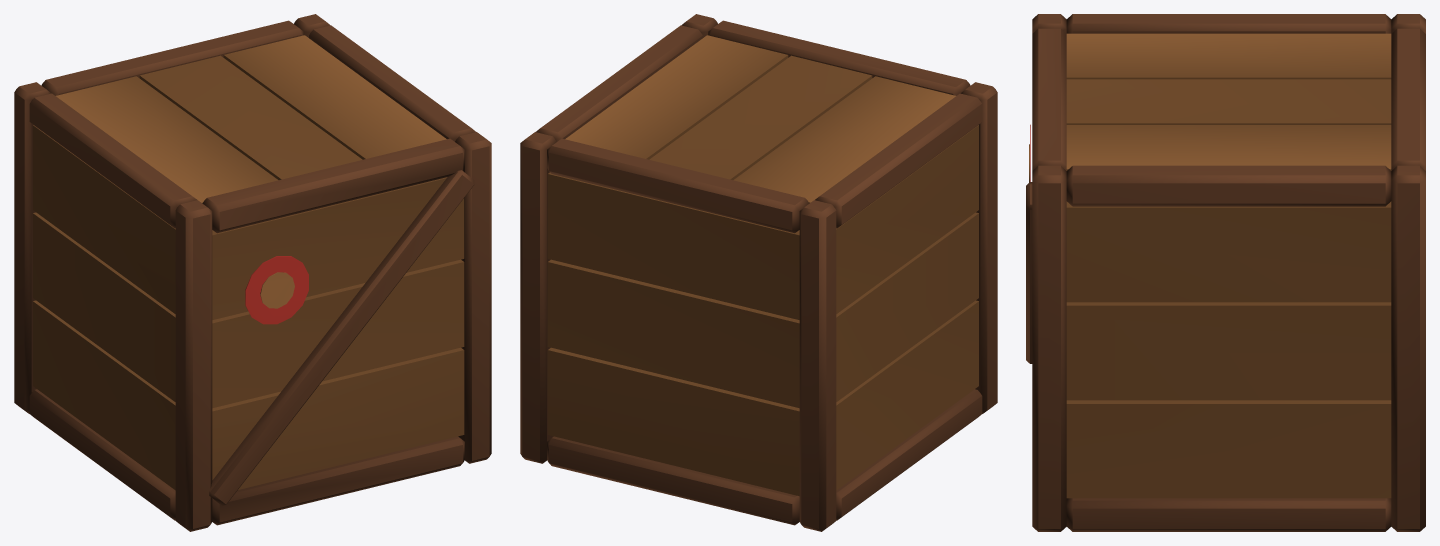
The model's file is crate.glb.
3 renders of one model, left to right at view 1: azimuth 30°, elevation 25°; view 2: azimuth 150°, elevation 25°; view 3: azimuth 270°, elevation 25°, orthographic. The views are drawn at different scales.
Parts seen in each view (by area): view 1: Crate Wood, Crate Dark wood, Crate Red paint; view 2: Crate Wood, Crate Dark wood; view 3: Crate Wood, Crate Dark wood.
Part boxes in pixels (x1=…): Crate Wood: x1=33, y1=35, x2=464, y2=490; Crate Dark wood: x1=14, y1=14, x2=491, y2=531; Crate Red paint: x1=245, y1=256, x2=308, y2=324; Crate Wood: x1=547, y1=35, x2=978, y2=496; Crate Dark wood: x1=520, y1=14, x2=997, y2=531; Crate Wood: x1=1029, y1=33, x2=1391, y2=498; Crate Dark wood: x1=1026, y1=14, x2=1425, y2=531.
Bounding box in the file's own units: 0.8 × 0.8 × 0.8125.
